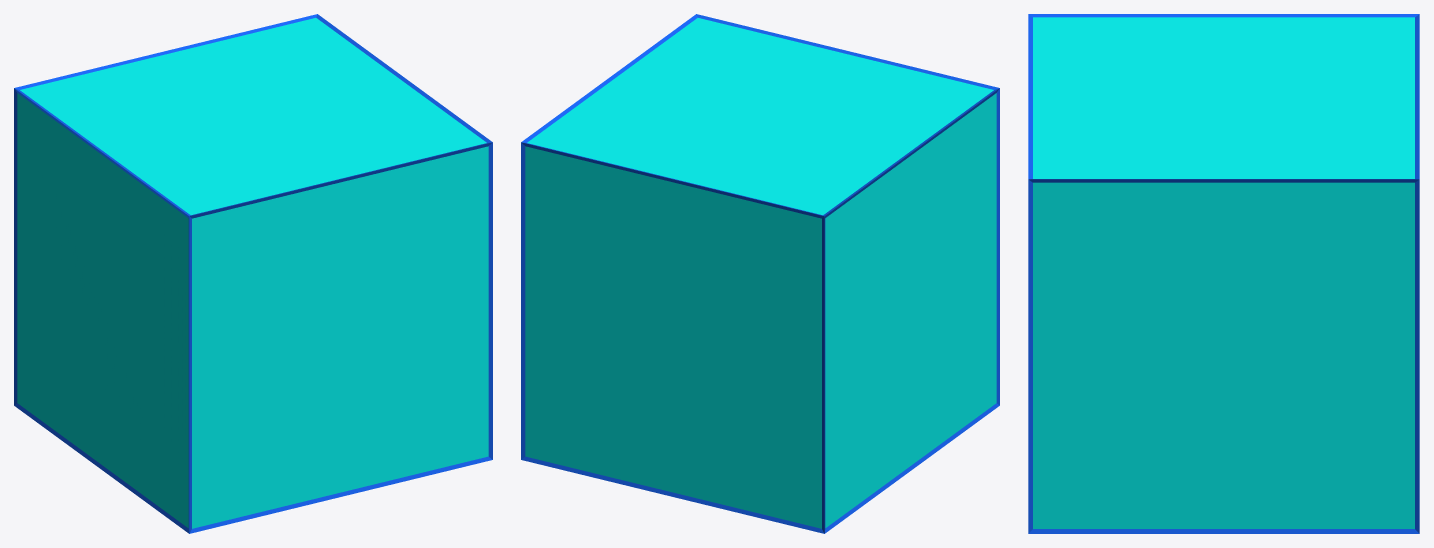
3 renders of one model, left to right at view 1: azimuth 30°, elevation 25°; view 2: azimuth 150°, elevation 25°; view 3: azimuth 270°, elevation 25°, orthographic. The views are drawn at different scales.
Parts seen in each view (by area): view 1: secondCube, mainCube; view 2: secondCube, mainCube; view 3: secondCube, mainCube.
Part boxes in pixels (left/top/right/bottom): secondCube: left=17, top=18, right=488, bottom=528; mainCube: left=14, top=14, right=492, bottom=533; secondCube: left=525, top=18, right=996, bottom=528; mainCube: left=521, top=14, right=999, bottom=533; secondCube: left=1033, top=17, right=1414, bottom=528; mainCube: left=1028, top=14, right=1419, bottom=533.
Size of the model in its own units: 1.61 by 1.61 by 1.61.
